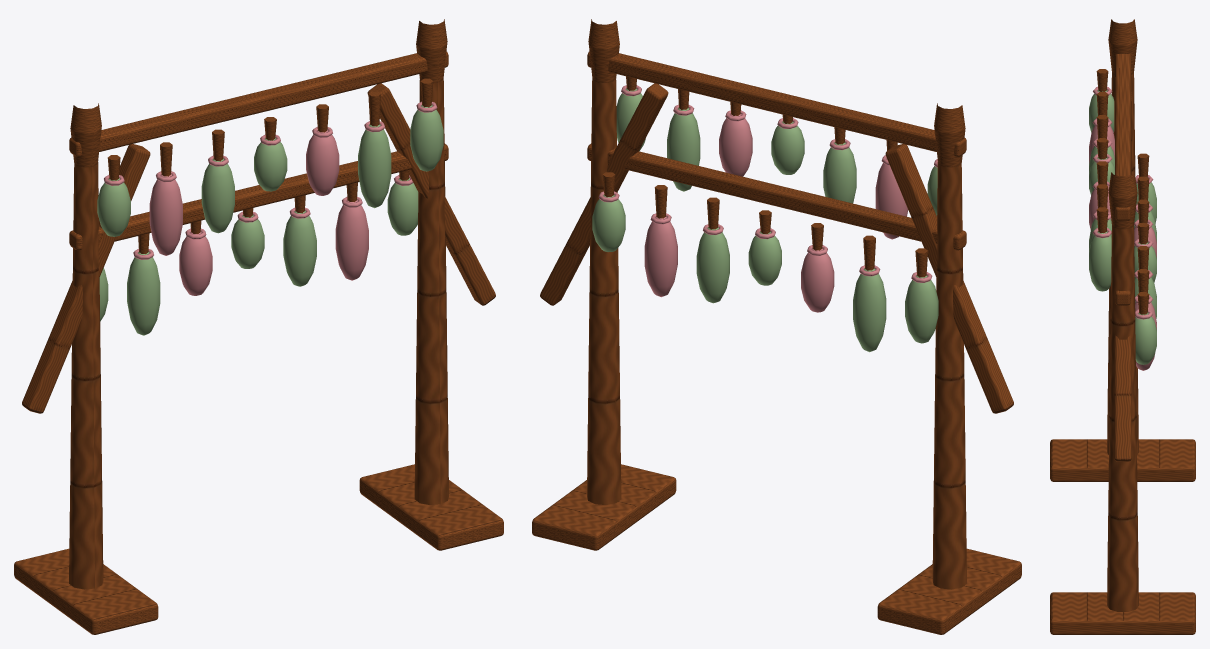
Rendered from witch-cottage-and-apothecary-drying-rack-of-bundles-05b32953__32471.glb.
The picture shows the model from 3 angles, left to right: view 1: azimuth 30°, elevation 25°; view 2: azimuth 150°, elevation 25°; view 3: azimuth 270°, elevation 25°; orthographic projection. The views are drawn at different scales.
Parts seen in each view (by area): view 1: drying-rack-of-bundles; view 2: drying-rack-of-bundles; view 3: drying-rack-of-bundles.
Part boxes in pixels (x1,y1,x2,y2): drying-rack-of-bundles: (14, 19, 503, 634); drying-rack-of-bundles: (532, 19, 1021, 634); drying-rack-of-bundles: (1050, 19, 1195, 634).
Bounding box in the file's own units: 1.68 × 1.7 × 0.5.
Materials: 3 (1 with a texture image).
